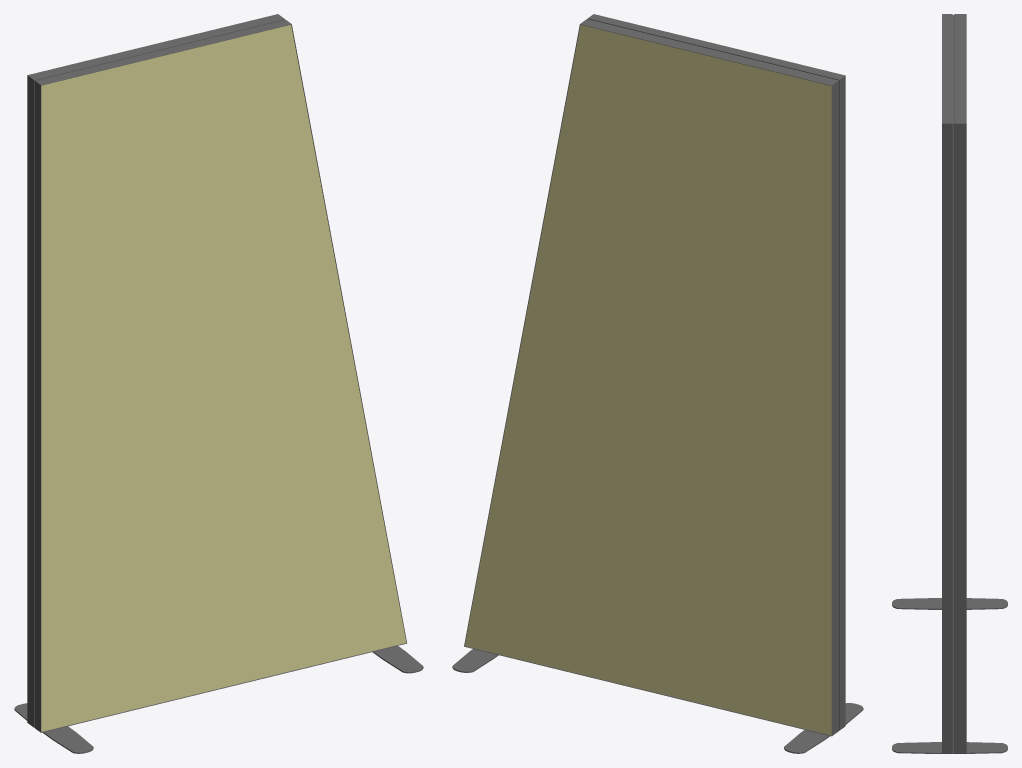
The model's file is 5ft Angled Lightbox.glb.
3 renders of one model, left to right at view 1: azimuth 30°, elevation 25°; view 2: azimuth 150°, elevation 25°; view 3: azimuth 270°, elevation 25°, orthographic. The views are drawn at different scales.
Parts seen in each view (by area): view 1: pCube086.001, toggle_feet_center.022; view 2: pCube086.001, toggle_feet_center.022; view 3: pCube086.001, toggle_feet_center.022.
Part boxes in pixels (x1,y1,x2,y2): pCube086.001: (27, 14, 407, 732); toggle_feet_center.022: (14, 646, 423, 753); pCube086.001: (464, 14, 845, 736); toggle_feet_center.022: (452, 649, 863, 753); pCube086.001: (942, 14, 966, 753); toggle_feet_center.022: (892, 598, 1007, 753).
Size of the model in its own units: 1.4 by 2.38 by 0.4285.
